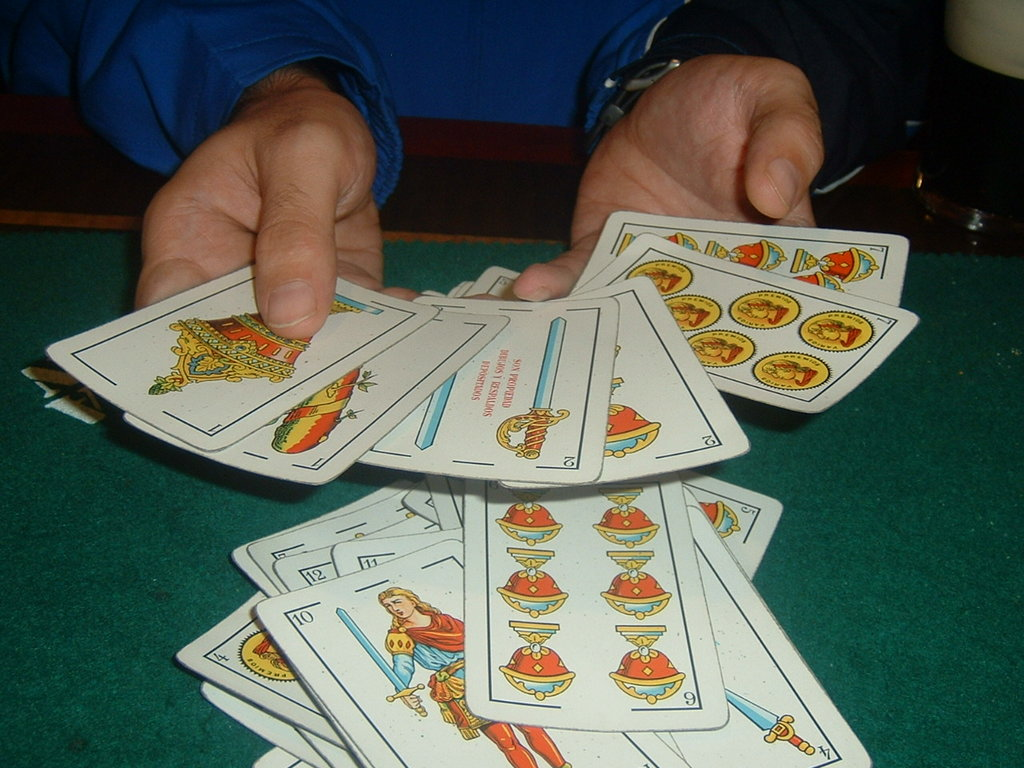person: (2, 0, 422, 346)
